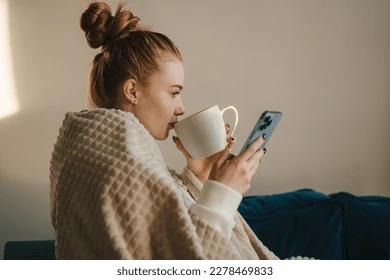blanket: (47, 108, 282, 261)
